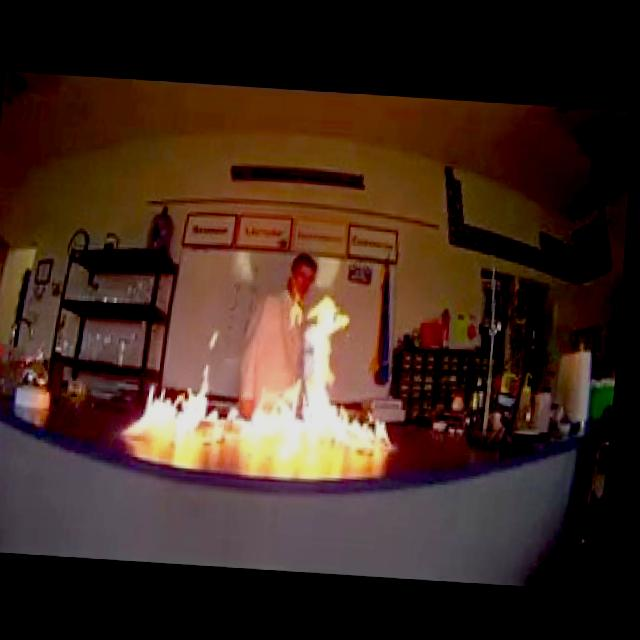no_helmet: (116, 276, 415, 454)
